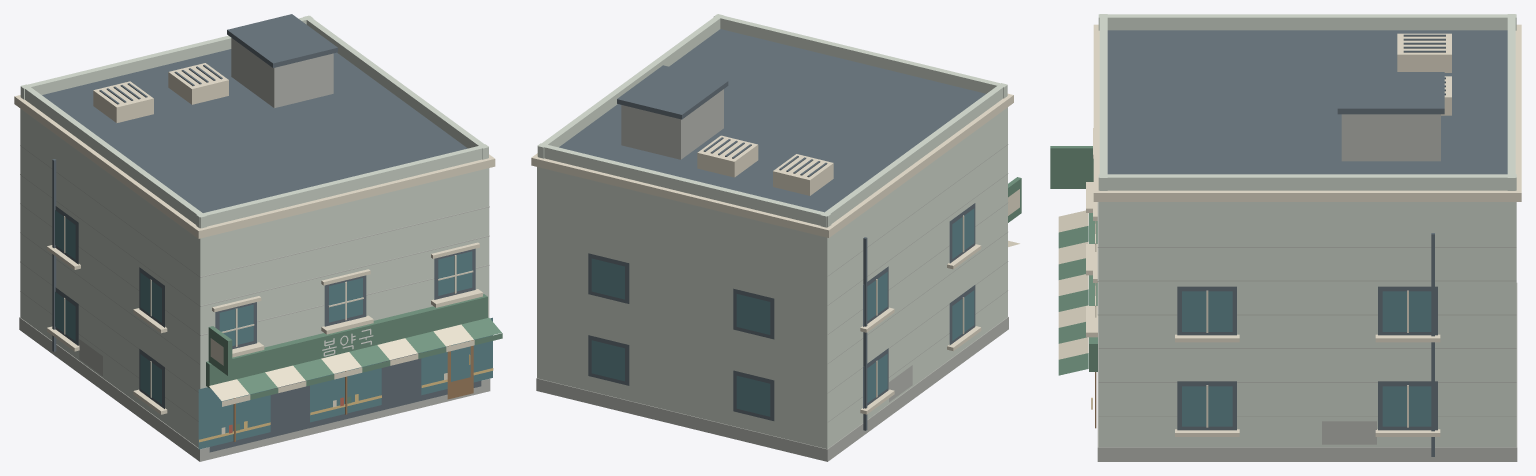
File: q01-pharmacy.glb
3 views of the same model, side by side, from view 1: azimuth 30°, elevation 25°; view 2: azimuth 150°, elevation 25°; view 3: azimuth 270°, elevation 25° (orthographic). The views are drawn at different scales.
Bounding box in the file's own units: 8.14 × 7.21 × 9.47.
